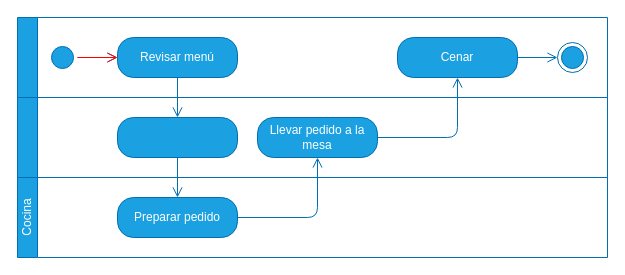
Image size: 625x275. Some labels were removed from this diagram. Each missing label, with the box of its shape:
Cliente: (16, 16, 608, 98)
Mozo: (16, 96, 608, 178)
Tomar pedido: (116, 116, 238, 158)
